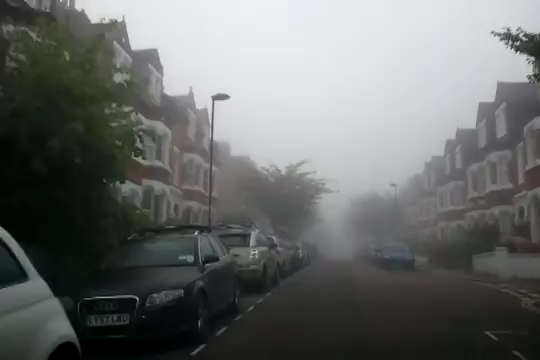car: (57, 223, 237, 354), (1, 225, 83, 360), (202, 222, 281, 290), (247, 226, 308, 275), (378, 240, 416, 273)
